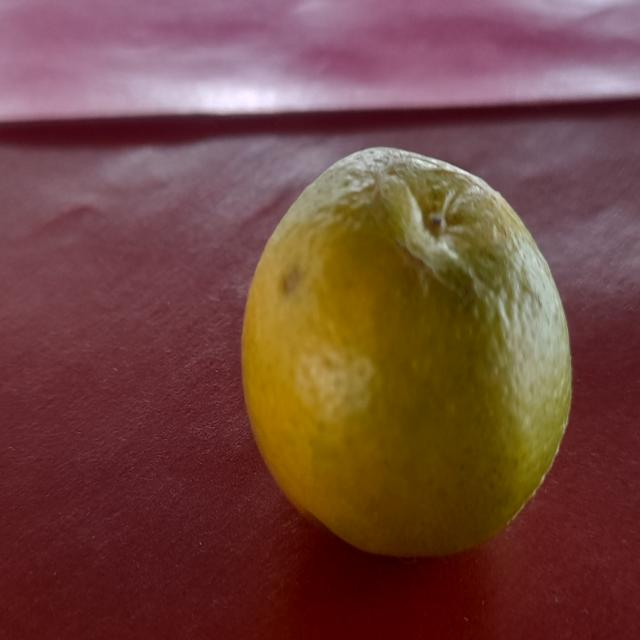greening: (243, 153, 570, 563)
